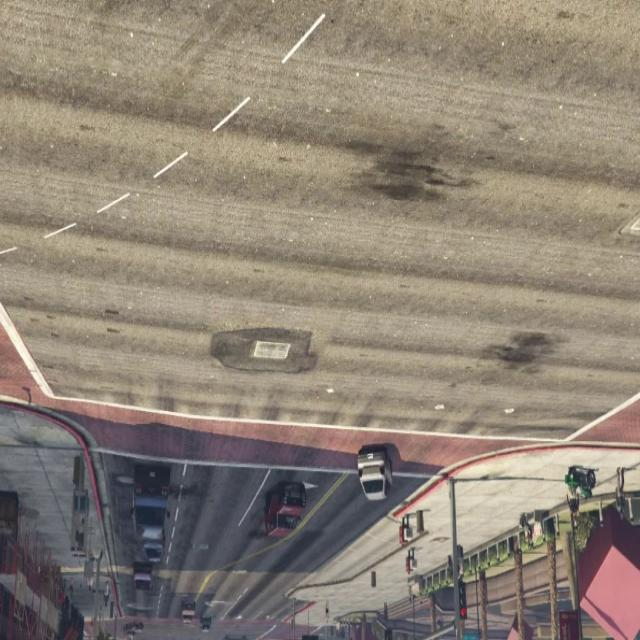Red-Signal: (451, 562, 478, 628), (374, 611, 404, 640)
